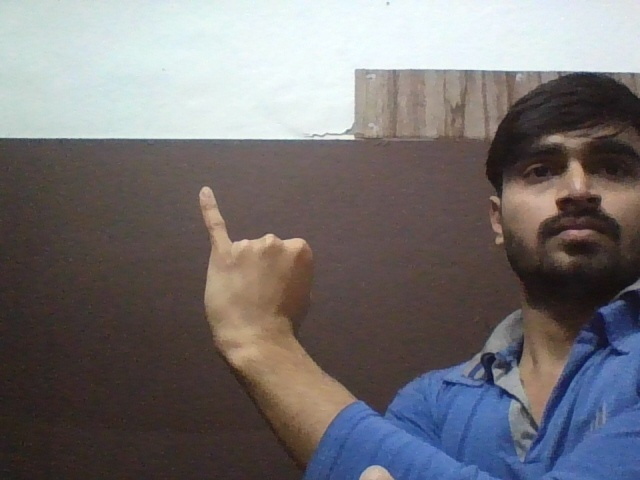J: (189, 177, 329, 356)
